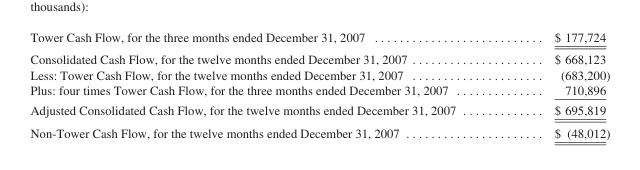table: (29, 29, 609, 139)
table column: (29, 29, 504, 139), (504, 29, 609, 139)
table row: (29, 99, 609, 120), (29, 47, 609, 66), (29, 120, 609, 139), (29, 29, 609, 47), (29, 81, 609, 99), (29, 66, 609, 81)
